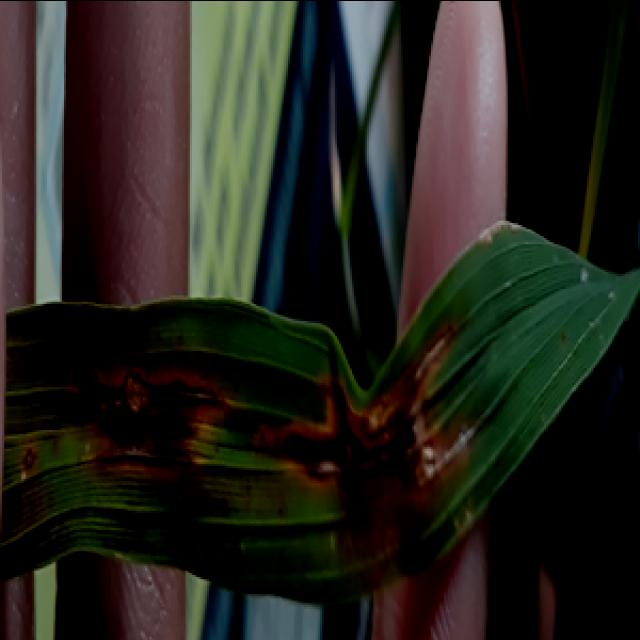Brown_Spot: (267, 381, 465, 517), (59, 346, 247, 482)
